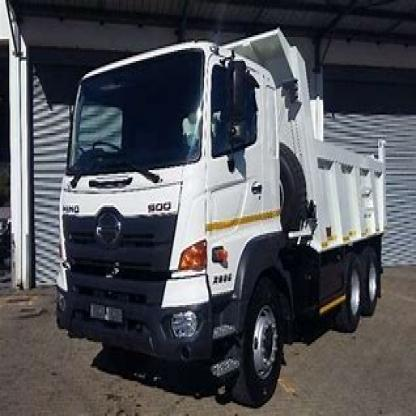dump_truck: (56, 30, 399, 401)
